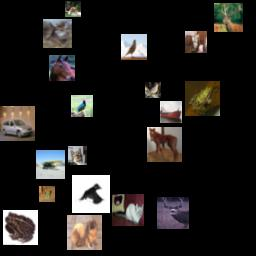airplane: (36, 150, 65, 179)
automobile: (0, 106, 35, 141)
bird: (72, 175, 110, 213), (121, 34, 147, 60), (71, 95, 93, 117), (145, 82, 161, 98)
cat: (112, 194, 144, 226), (68, 146, 87, 165)
deer: (157, 197, 189, 229), (43, 19, 72, 48), (214, 3, 243, 32)
dog: (67, 215, 102, 250), (65, 1, 81, 17)
frog: (185, 81, 220, 116), (3, 210, 38, 245), (39, 186, 55, 202)
ship: (160, 101, 182, 123)
